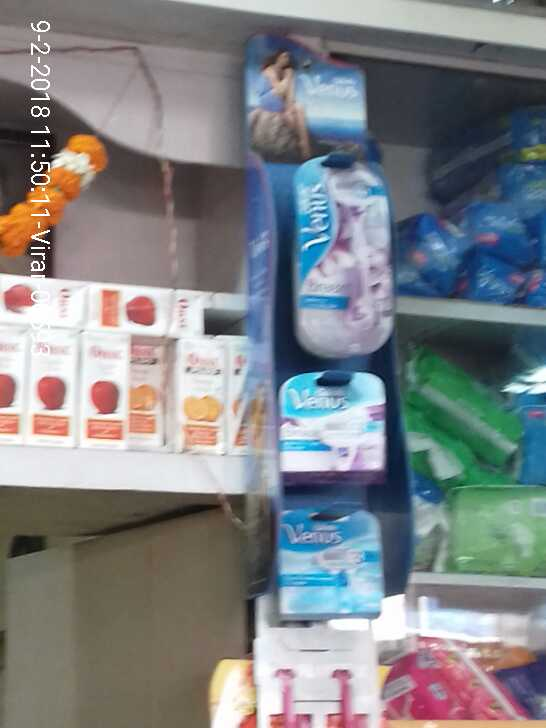venus: (292, 157, 386, 353), (273, 506, 380, 625), (283, 375, 393, 475)
